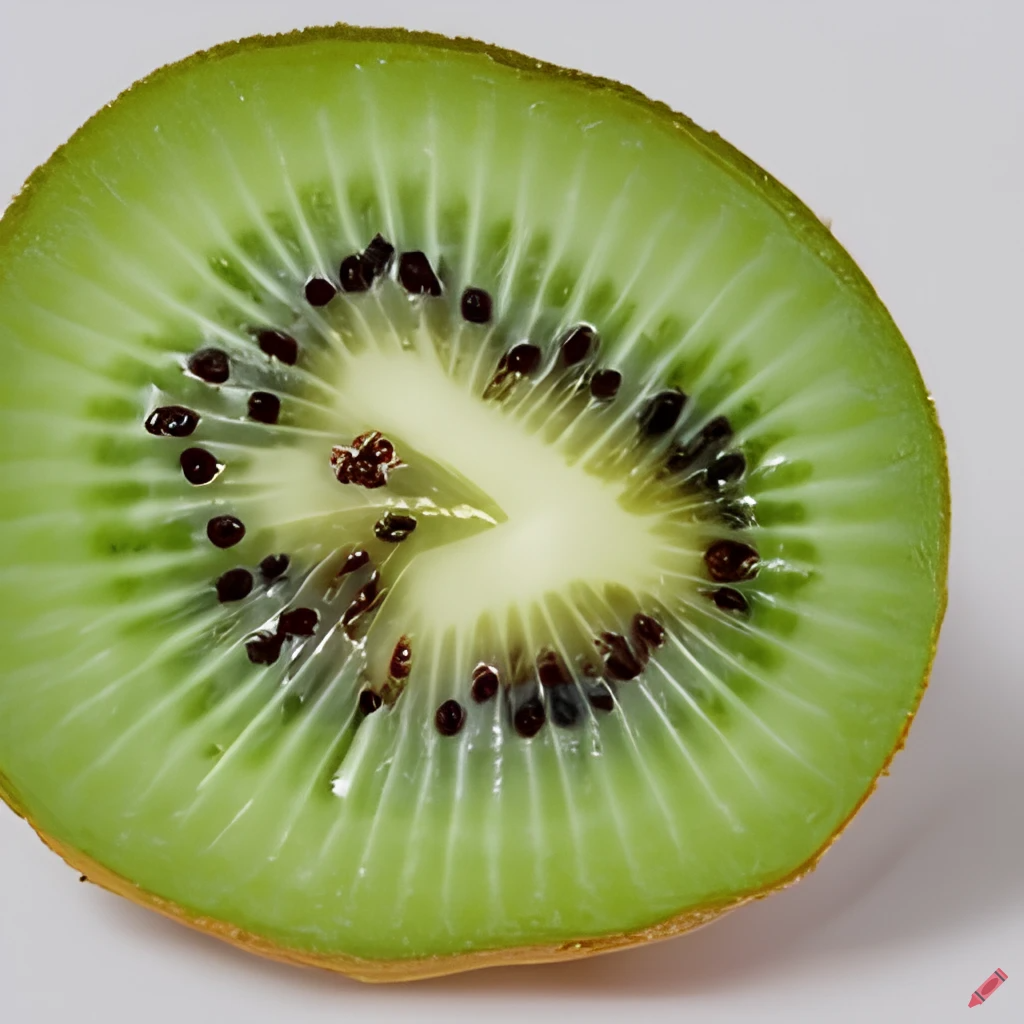Kiwi: (0, 26, 966, 1006)
